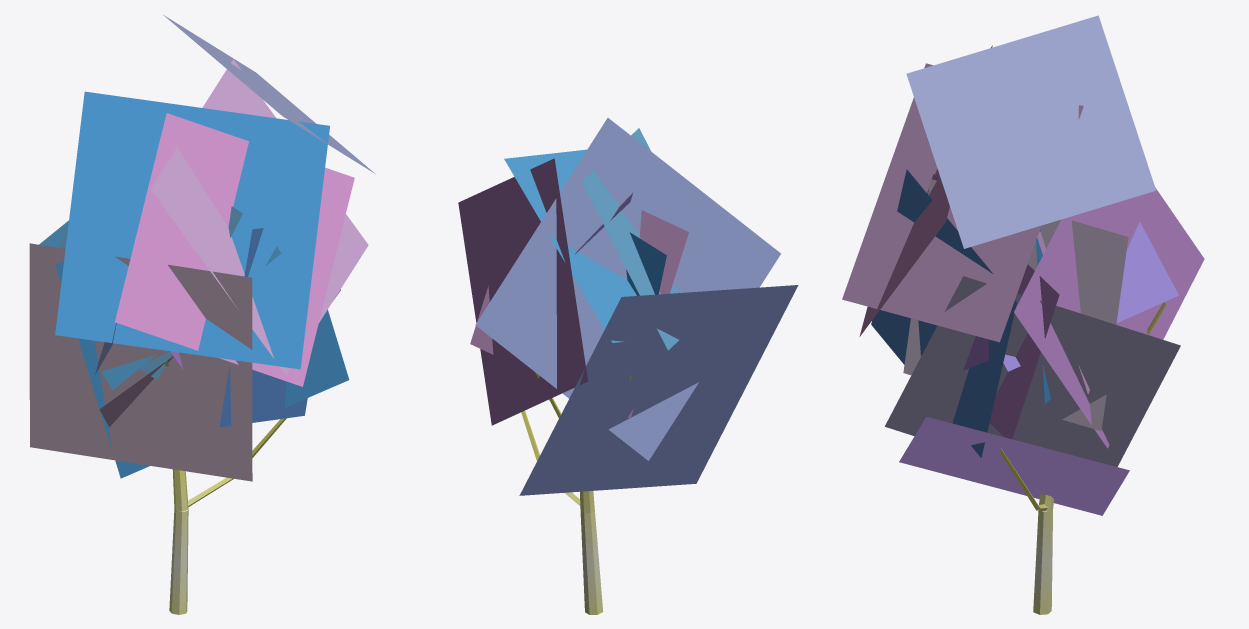
Rendered from tree_oak_1.glb.
3 views of the same model, side by side, from view 1: azimuth 30°, elevation 25°; view 2: azimuth 150°, elevation 25°; view 3: azimuth 270°, elevation 25° (orthographic). The views are drawn at different scales.
Visible parts, largest first — view 1: tree_oak_1; view 2: tree_oak_1; view 3: tree_oak_1.
Boxes of the visible parts, x1=… form: tree_oak_1: x1=29, y1=15, x2=375, y2=614; tree_oak_1: x1=458, y1=118, x2=798, y2=614; tree_oak_1: x1=842, y1=15, x2=1204, y2=614.
Bounding box in the file's own units: 7.11 × 11.64 × 7.05.
